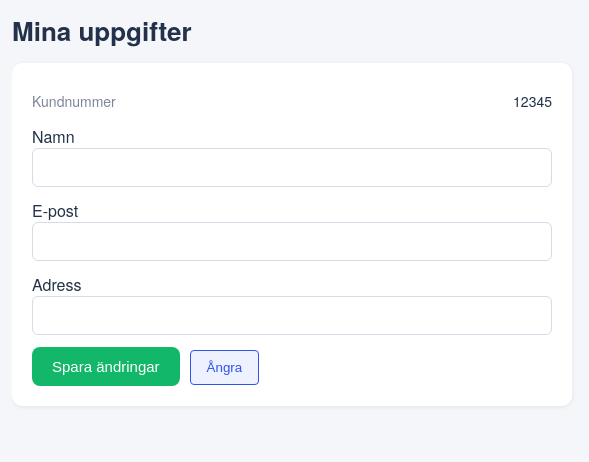
ProfileView › sparar inte när e-postadressen är ogiltig
This screenshot has width=589, height=462.
In the field labelled "E-post": (292, 242) left=32, top=222, right=552, bottom=261, type "Anna Andersson"
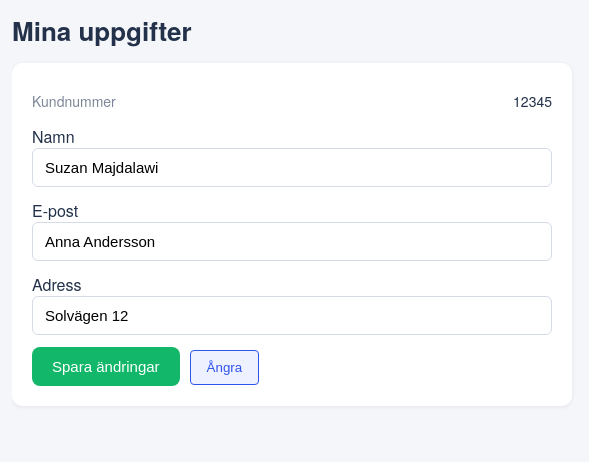
Click the button "Spara ändringar": (106, 366) left=32, top=347, right=180, bottom=386
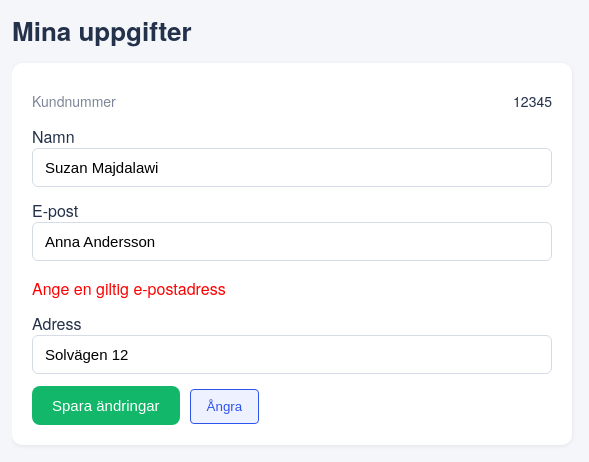
Result: the text "Ange en giltig e-postadress" is shown at left=32, top=277, right=226, bottom=300
